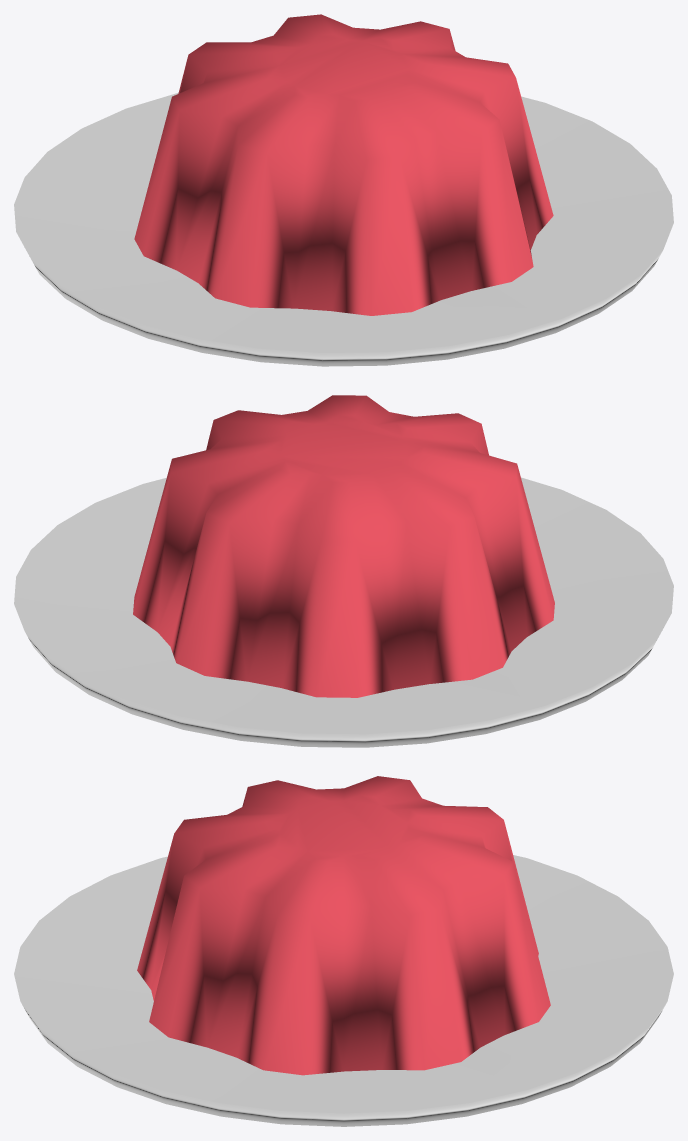
The model's file is jelly.dae.
3 views of the same model, one above another, from view 1: azimuth 30°, elevation 25°; view 2: azimuth 150°, elevation 25°; view 3: azimuth 270°, elevation 25° (orthographic).
Visible parts, largest first — view 1: Cylinder, Cylinder.001; view 2: Cylinder, Cylinder.001; view 3: Cylinder, Cylinder.001.
Part boxes in pixels (<box>): Cylinder: <box>134,14,553,315</box>; Cylinder.001: <box>14,92,673,366</box>; Cylinder: <box>133,395,554,697</box>; Cylinder.001: <box>14,477,673,747</box>; Cylinder: <box>137,776,550,1075</box>; Cylinder.001: <box>14,855,673,1126</box>.
Bounding box in the file's own units: 3.84 × 3.84 × 1.29.
